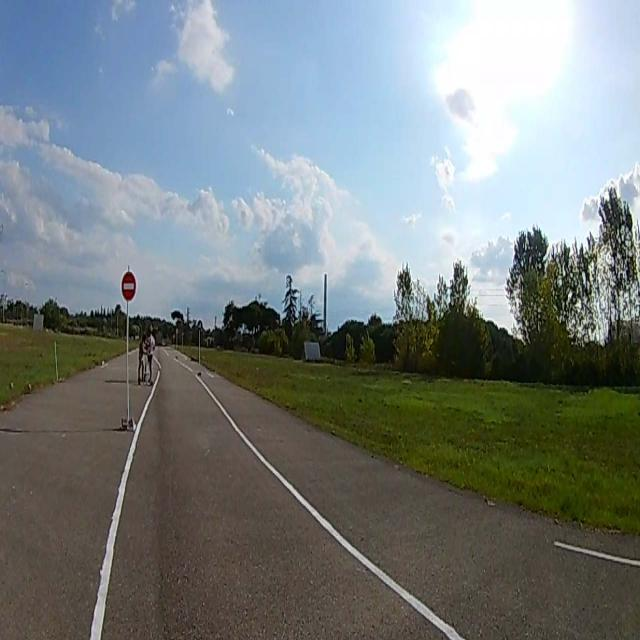girisyok: (122, 273, 136, 302)
